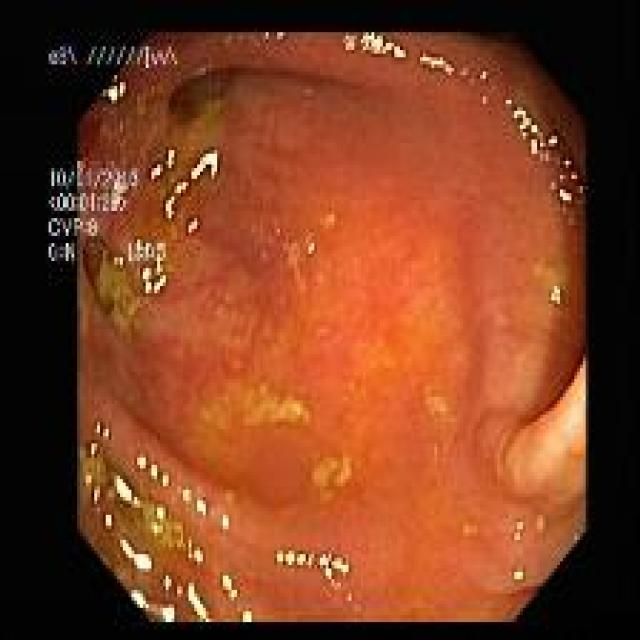ulcerative-colitis: (79, 33, 585, 622)
